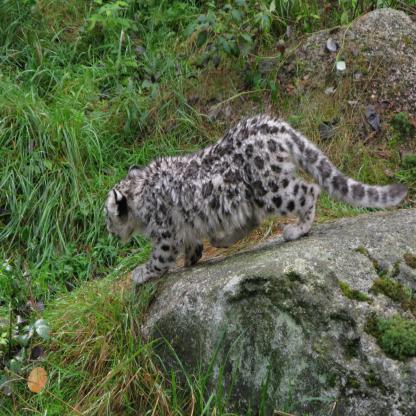leopard: (98, 174, 150, 260)
